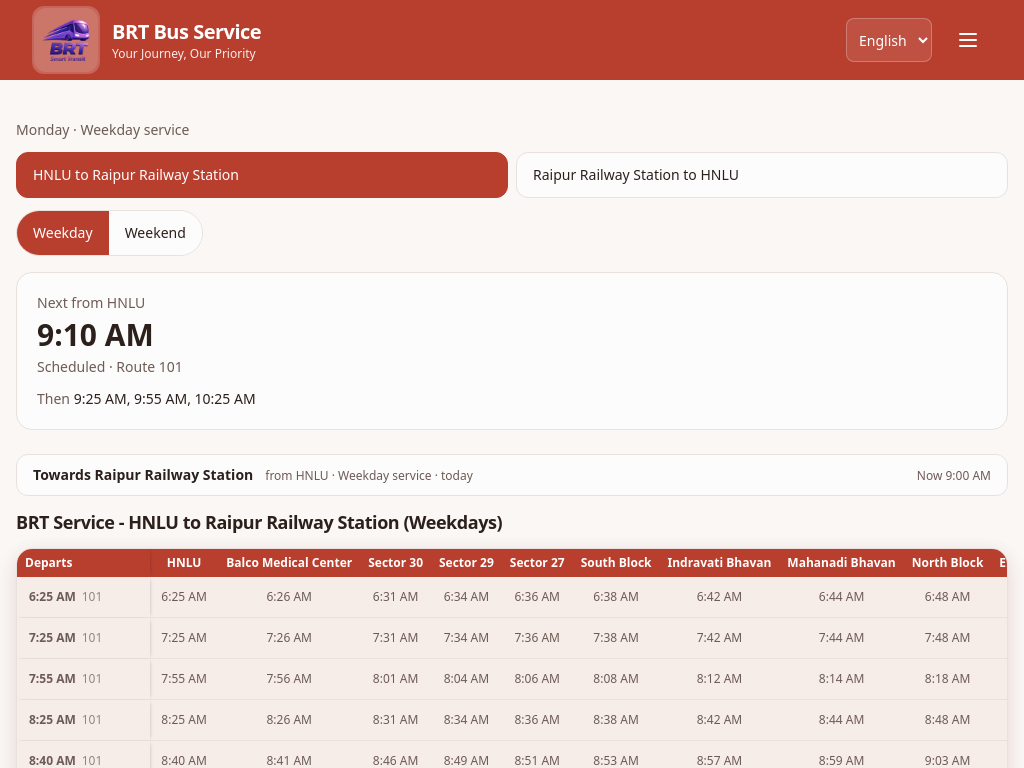
Scenario: choosing a direction › switches to the return working
Click the button "Raipur Railway Station to HNLU".
click(636, 174)  # box [516, 152, 1008, 198]
(page scrolled)
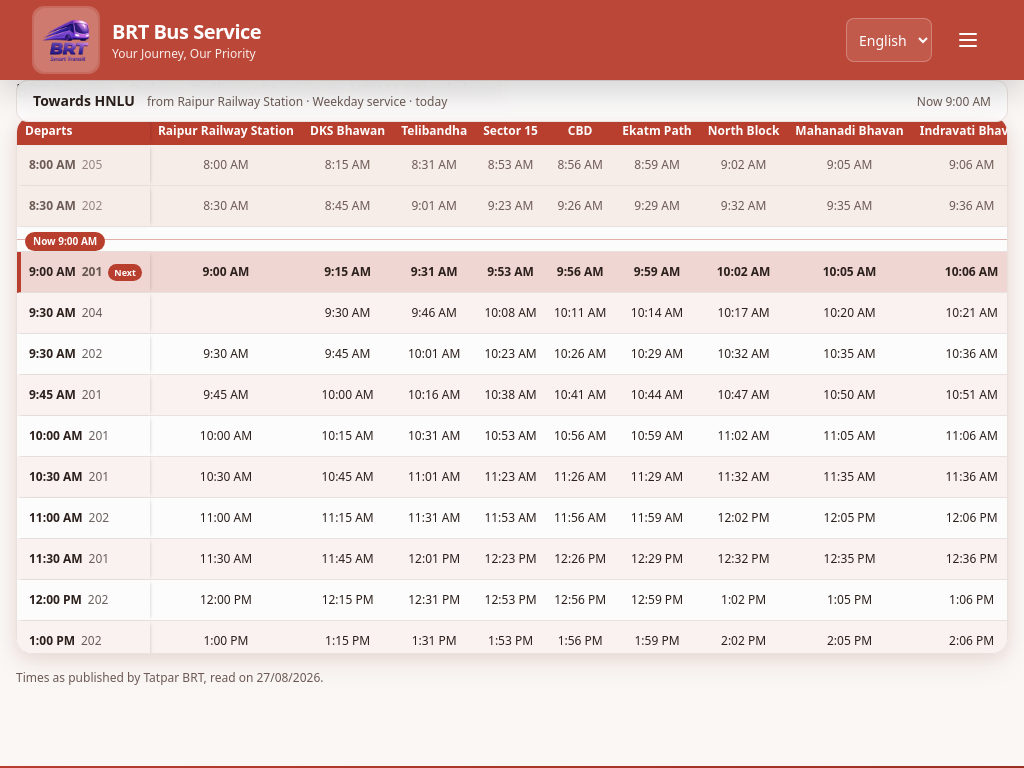
Check: the element named "Raipur Railway Station to HNLU" is shown
